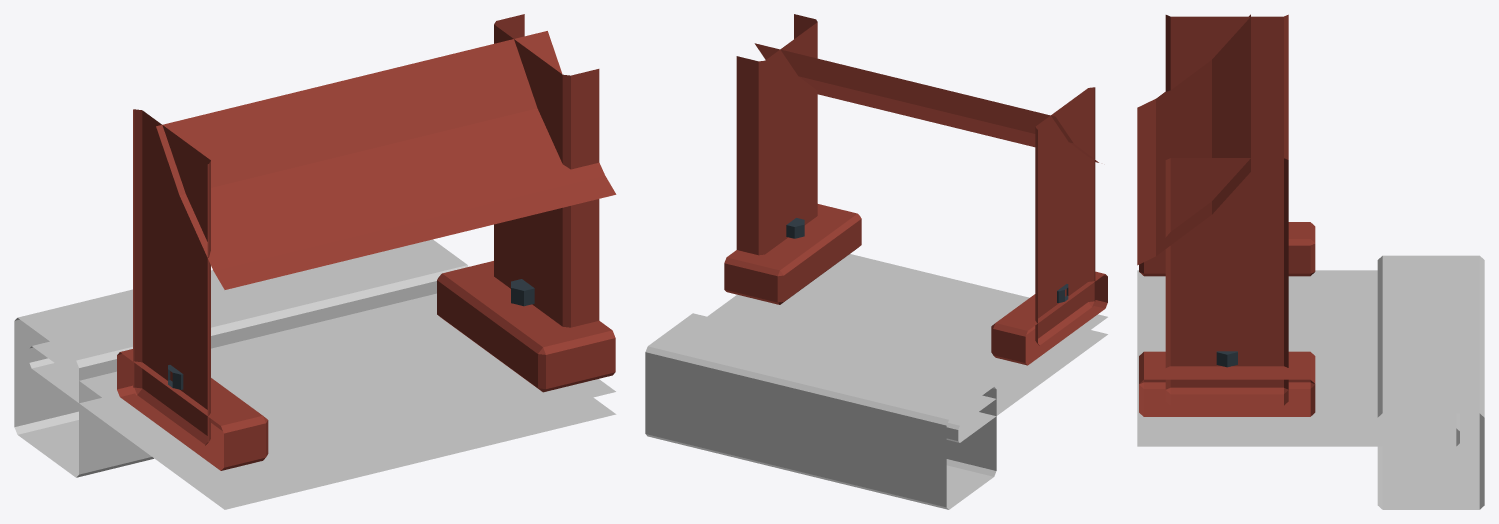
File: cell_2.obj
The picture shows the model from 3 angles, left to right: view 1: azimuth 30°, elevation 25°; view 2: azimuth 150°, elevation 25°; view 3: azimuth 270°, elevation 25°; orthographic projection. The views are drawn at different scales.
Bounding box in the file's own units: 1 × 1 × 0.93.
